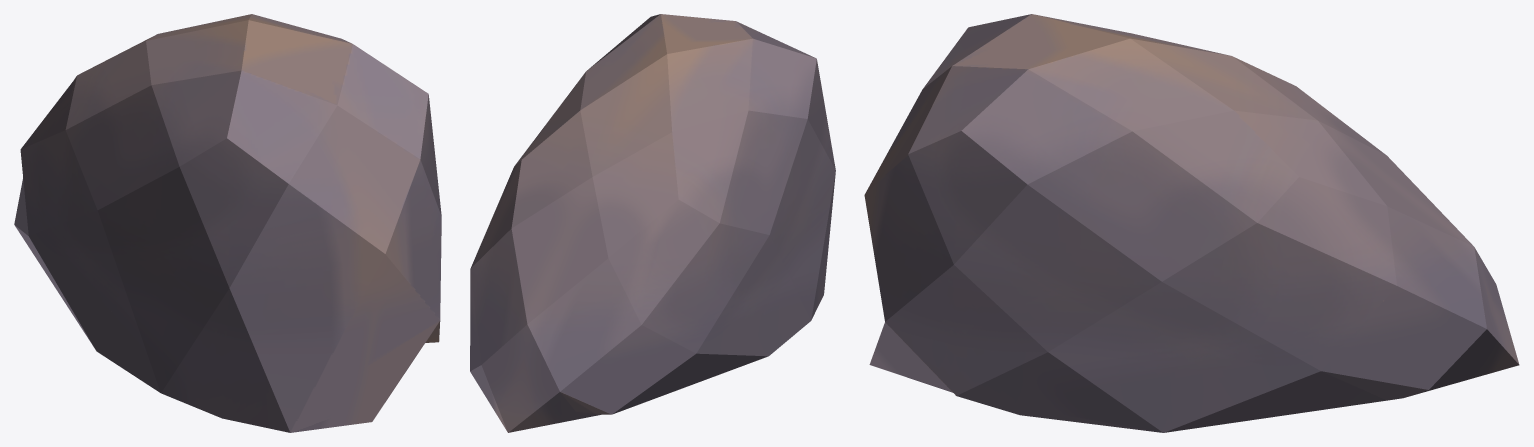
File: Rock2.obj
The picture shows the model from 3 angles, left to right: view 1: azimuth 30°, elevation 25°; view 2: azimuth 150°, elevation 25°; view 3: azimuth 270°, elevation 25°; orthographic projection. The views are drawn at different scales.
Parts seen in each view (by area): view 1: Rock2_Cube; view 2: Rock2_Cube; view 3: Rock2_Cube.
Boxes of the visible parts, x1,y1,x2,y2 form: Rock2_Cube: (14,14,441,432); Rock2_Cube: (470,14,835,432); Rock2_Cube: (864,14,1519,432).
Bounding box in the file's own units: 1.45 × 1.62 × 2.9.
